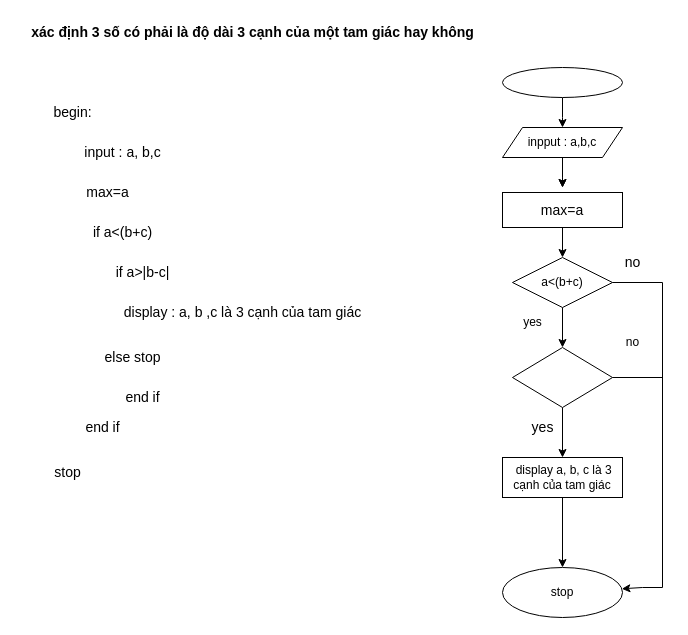
Image size: 688x635. Some labels were removed from this diagram. The box of each missing label's shape, as (x1, y1, x2, y2) in pixels:
a>|b-c|: (512, 346, 612, 408)
start: (502, 66, 622, 98)
